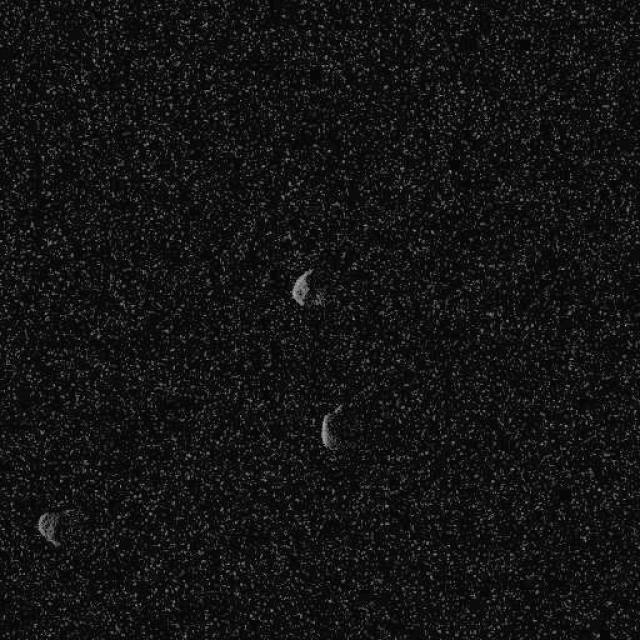D2: (319, 401, 349, 451), (34, 510, 61, 548), (288, 266, 312, 306)
